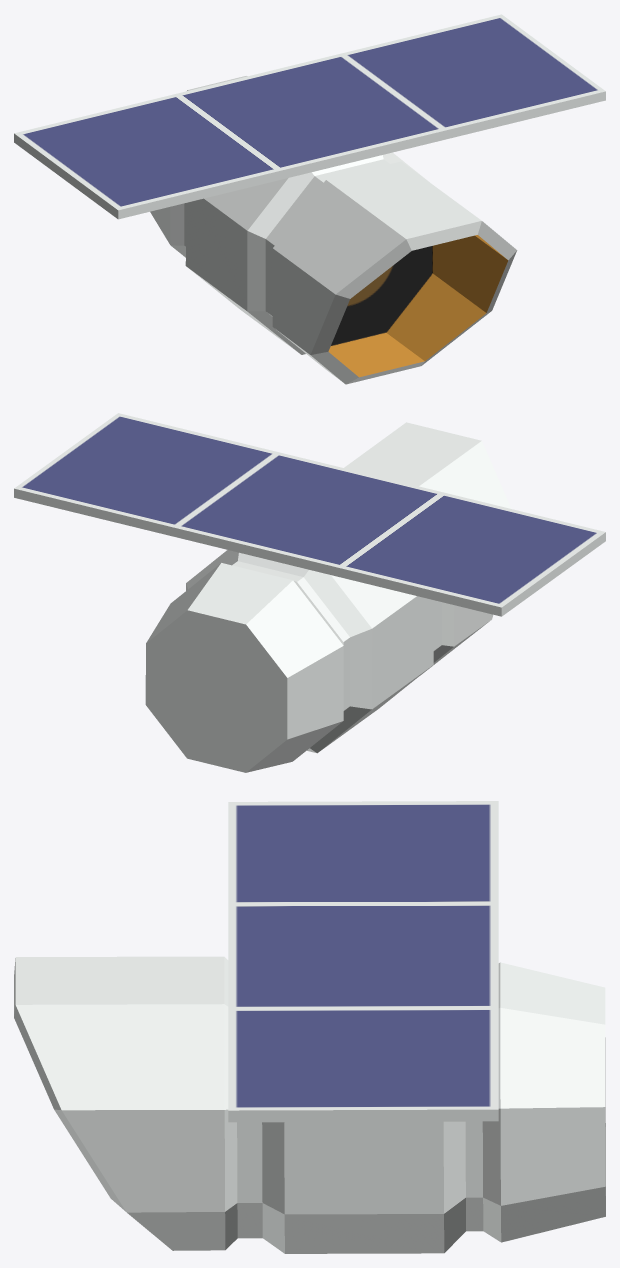
File: Collide.fbx
The picture shows the model from 3 angles, top to bottom: view 1: azimuth 30°, elevation 25°; view 2: azimuth 150°, elevation 25°; view 3: azimuth 270°, elevation 25°; orthographic projection. The views are drawn at different scales.
Parts seen in each view (by area): view 1: pCylinder1; view 2: pCylinder1; view 3: pCylinder1.
Boxes of the visible parts, x1,y1,x2,y2 form: pCylinder1: (14, 14, 605, 384); pCylinder1: (14, 413, 605, 772); pCylinder1: (14, 801, 605, 1253).
Bounding box in the file's own units: 9.93 × 4.12 × 8.05.
1 material, 1 textured.
